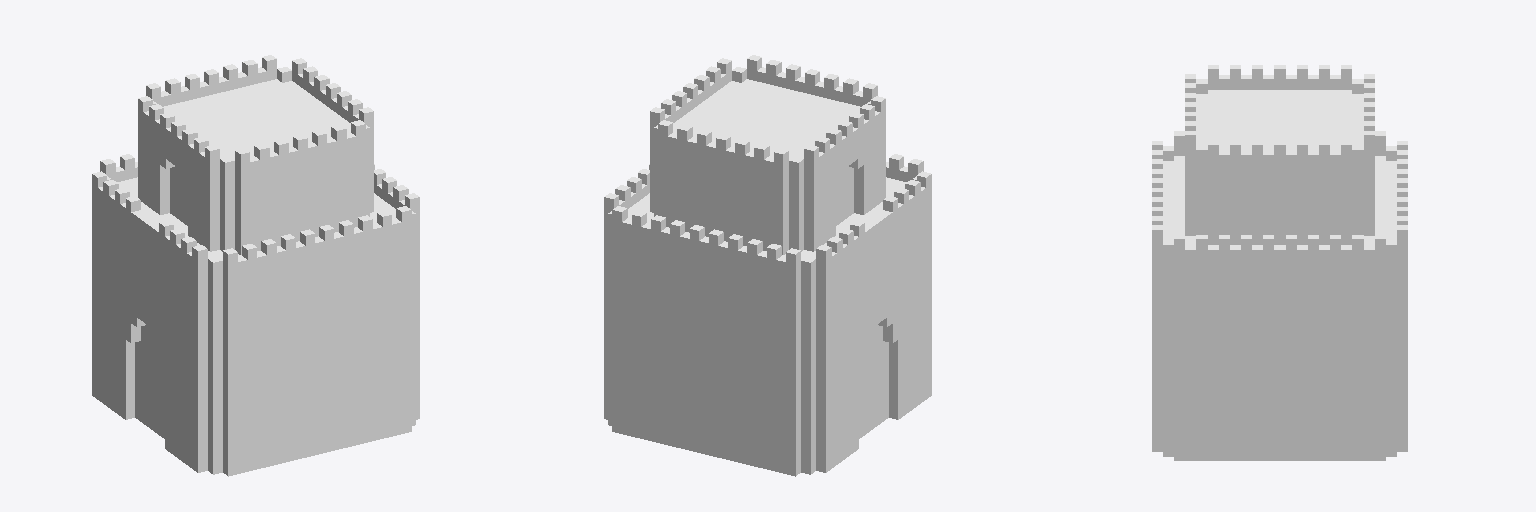
File: Outpost3.obj
3 views of the same model, side by side, from view 1: azimuth 30°, elevation 25°; view 2: azimuth 150°, elevation 25°; view 3: azimuth 270°, elevation 25° (orthographic).
Parts seen in each view (by area): view 1: object 1; view 2: object 1; view 3: object 1.
Part boxes in pixels (x1,y1,x2,y2): object 1: (92, 55, 419, 476); object 1: (604, 55, 931, 476); object 1: (1152, 65, 1407, 460).
Size of the model in its own units: 2.3 by 3 by 2.3.